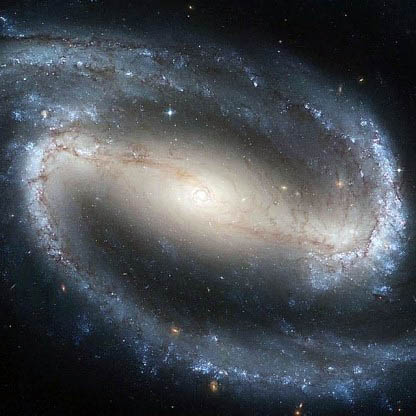NGC 1300: (4, 11, 411, 404)
